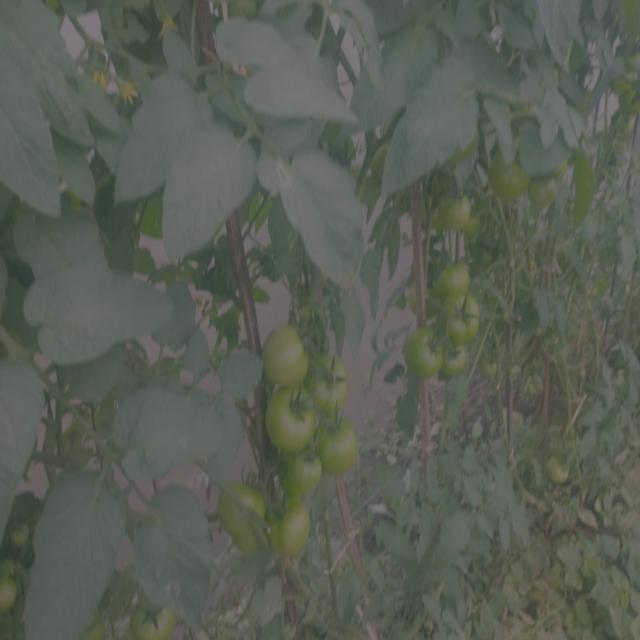tomato: (259, 384, 320, 457), (216, 476, 267, 553), (256, 320, 313, 388), (320, 416, 365, 479), (278, 450, 326, 504), (487, 149, 532, 204), (271, 503, 315, 556), (308, 353, 349, 408), (132, 593, 177, 640), (404, 329, 444, 381), (445, 293, 485, 342), (431, 253, 477, 295), (435, 184, 473, 234), (530, 169, 563, 213), (542, 334, 582, 370), (546, 447, 576, 490), (7, 514, 38, 554), (442, 339, 472, 380), (512, 360, 542, 401), (227, 1, 267, 23), (1, 577, 20, 619), (482, 355, 506, 384), (83, 617, 113, 640)
